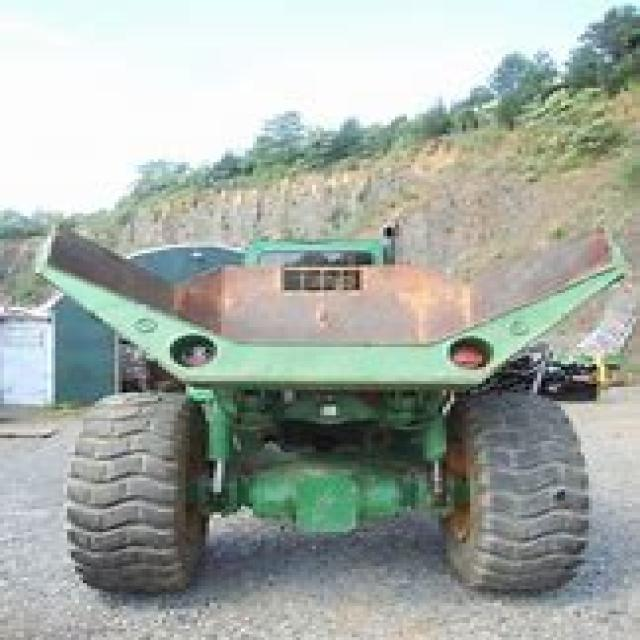dump_truck: (32, 210, 628, 598)
